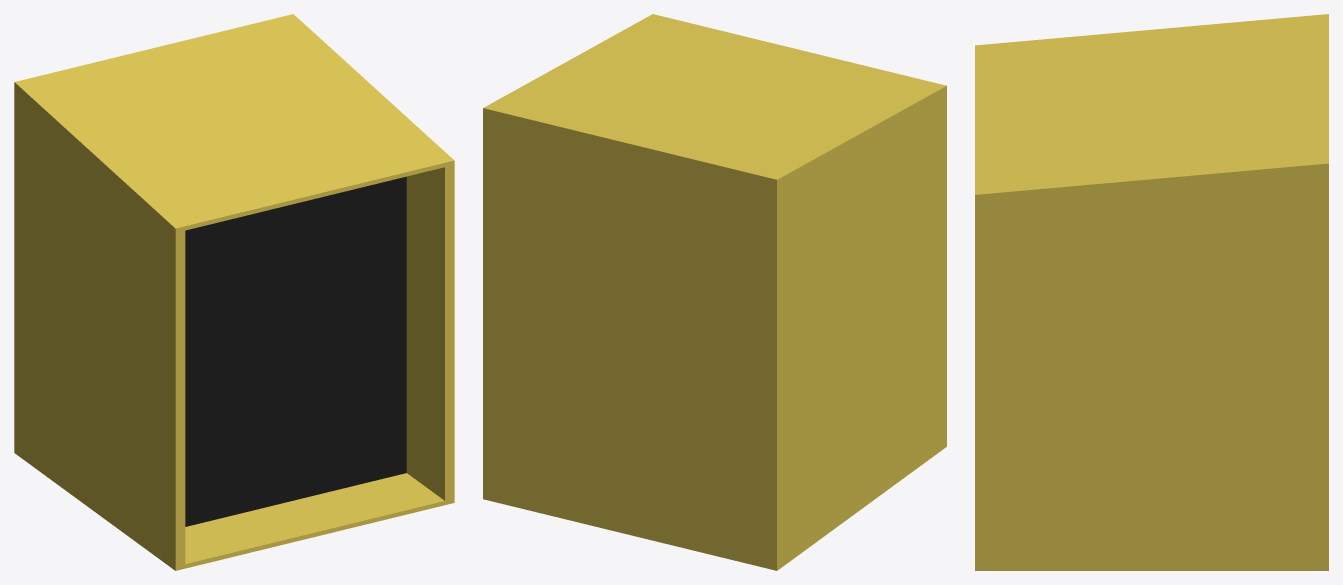
File: ExpulsorComidaFinal.fbx
The picture shows the model from 3 angles, left to right: view 1: azimuth 30°, elevation 25°; view 2: azimuth 150°, elevation 25°; view 3: azimuth 270°, elevation 25°; orthographic projection. The views are drawn at different scales.
Parts seen in each view (by area): view 1: Cube.005; view 2: Cube.005; view 3: Cube.005.
Boxes of the visible parts, bbox=[...] form: Cube.005: bbox=[14, 14, 454, 570]; Cube.005: bbox=[483, 14, 946, 570]; Cube.005: bbox=[975, 14, 1328, 570].
Bounding box in the file's own units: 0.4898 × 0.6224 × 0.4898.
